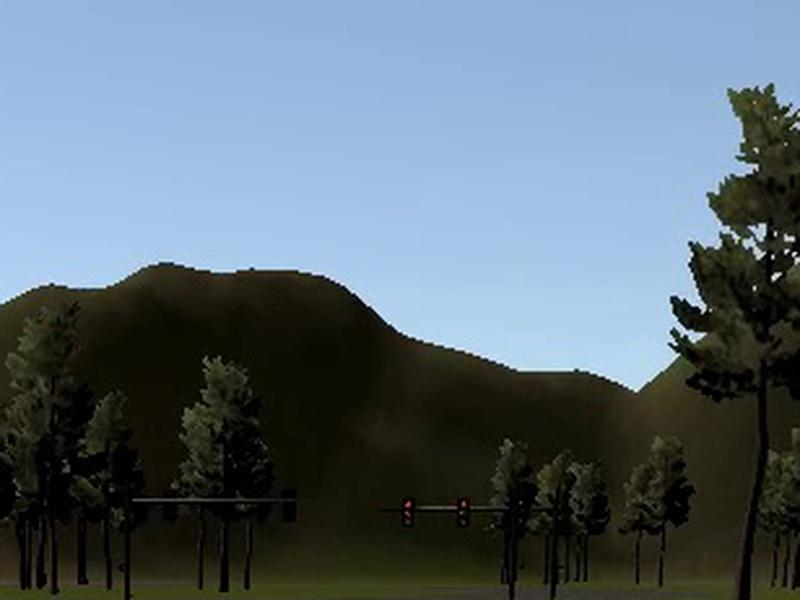Red: (452, 495, 471, 529), (401, 499, 415, 530)
